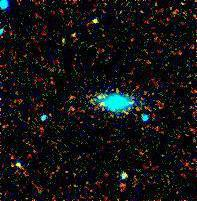star: (67, 22, 97, 52)
